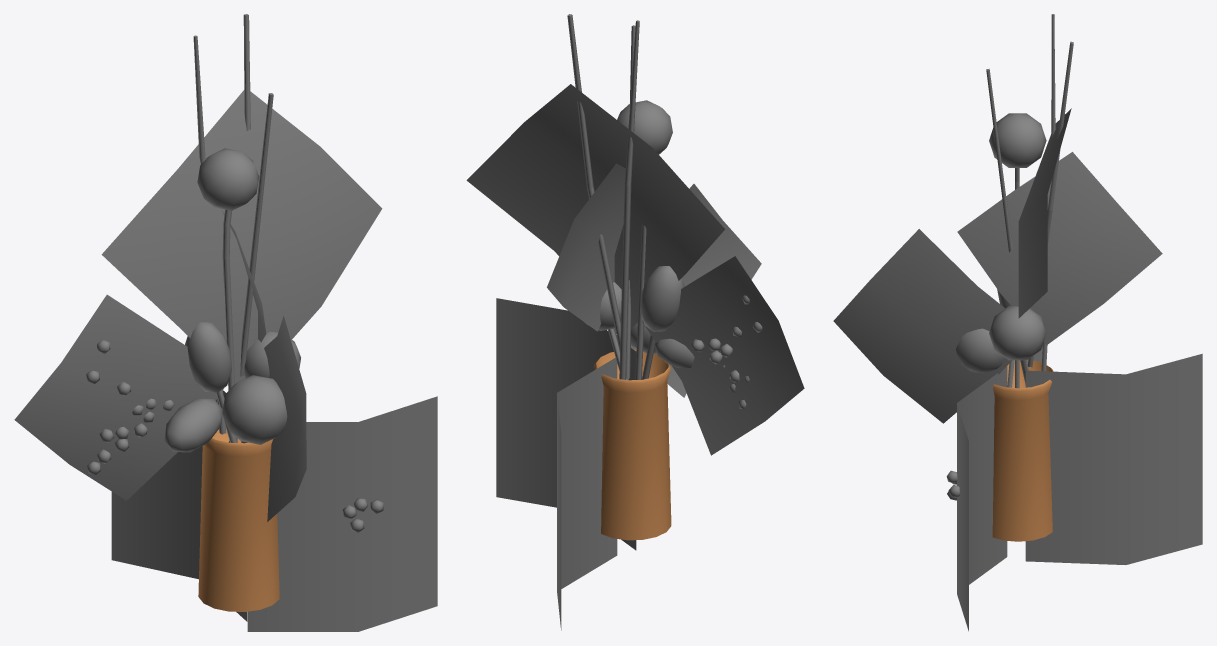
File: flower_decor.fbx
3 views of the same model, side by side, from view 1: azimuth 30°, elevation 25°; view 2: azimuth 150°, elevation 25°; view 3: azimuth 270°, elevation 25° (orthographic). The views are drawn at different scales.
Visible parts, largest first — view 1: decor_dry, decor_stuff, vase; view 2: decor_dry, decor_stuff, vase; view 3: decor_dry, decor_stuff, vase.
Part boxes in pixels (left/top/right/bottom): decor_dry: left=14, top=90, right=437, bottom=631; decor_stuff: left=86, top=14, right=383, bottom=532; vase: left=198, top=429, right=279, bottom=611; decor_dry: left=466, top=84, right=804, bottom=630; decor_stuff: left=567, top=14, right=762, bottom=408; vase: left=594, top=349, right=671, bottom=540; decor_dry: left=833, top=108, right=1202, bottom=631; decor_stuff: left=946, top=14, right=1073, bottom=500; vase: left=992, top=359, right=1053, bottom=541.
Bounding box in the file's own units: 13.21 × 19.69 × 12.42.
